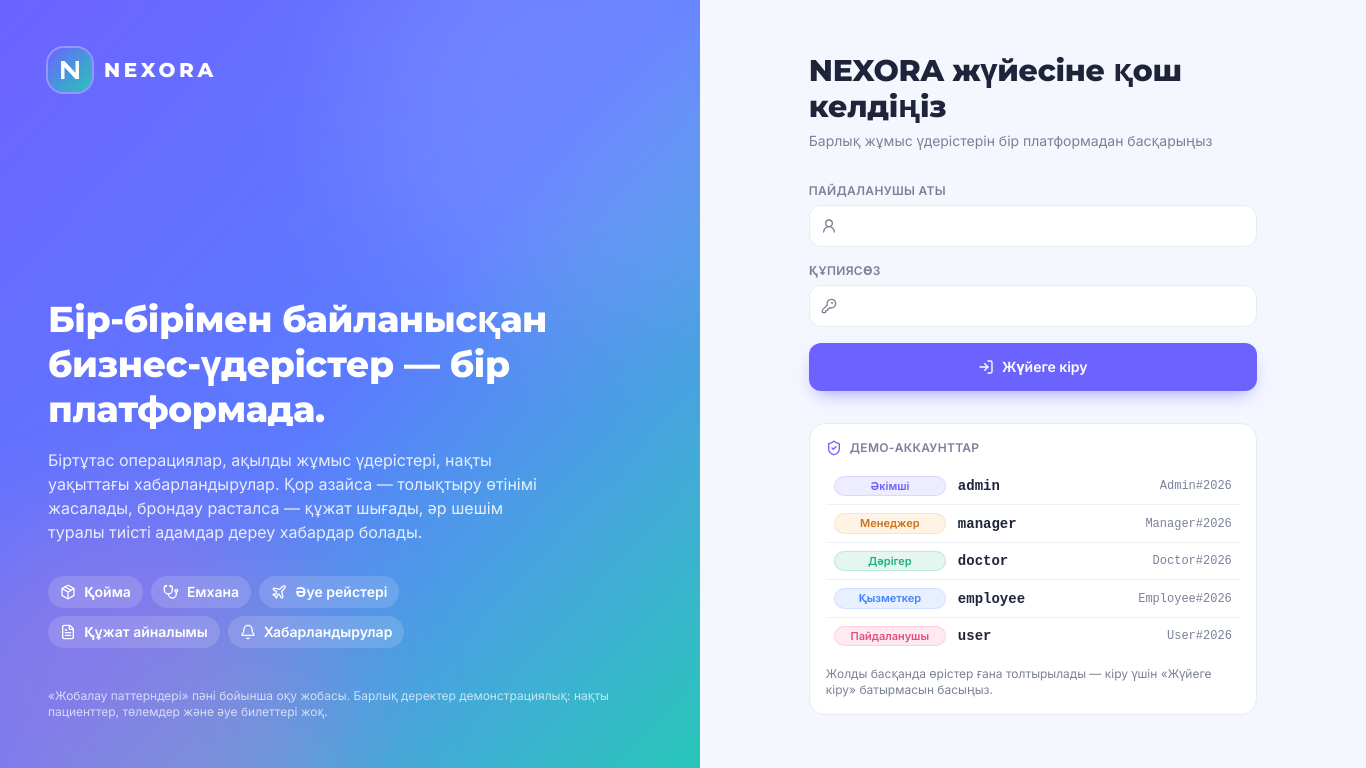
Scenario: LoginPage (қазақша) › shows the Kazakh server message for wrong credentials
Type "manager" into the field labelled "Пайдаланушы аты" at {"x": 1033, "y": 226}, box x1=809 y1=205 x2=1257 y2=247
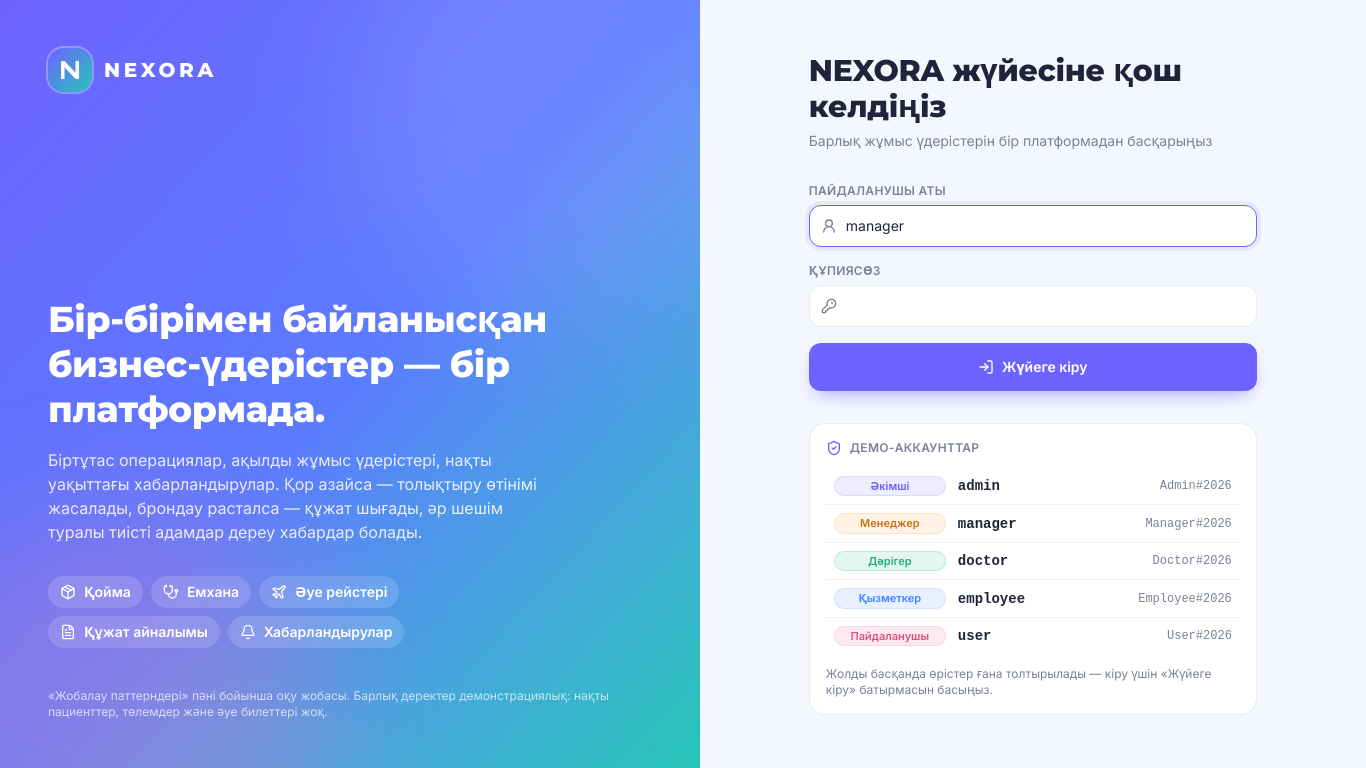
Type "wrong" into the password field labelled "Құпиясөз" at {"x": 1033, "y": 306}, box x1=809 y1=285 x2=1257 y2=327
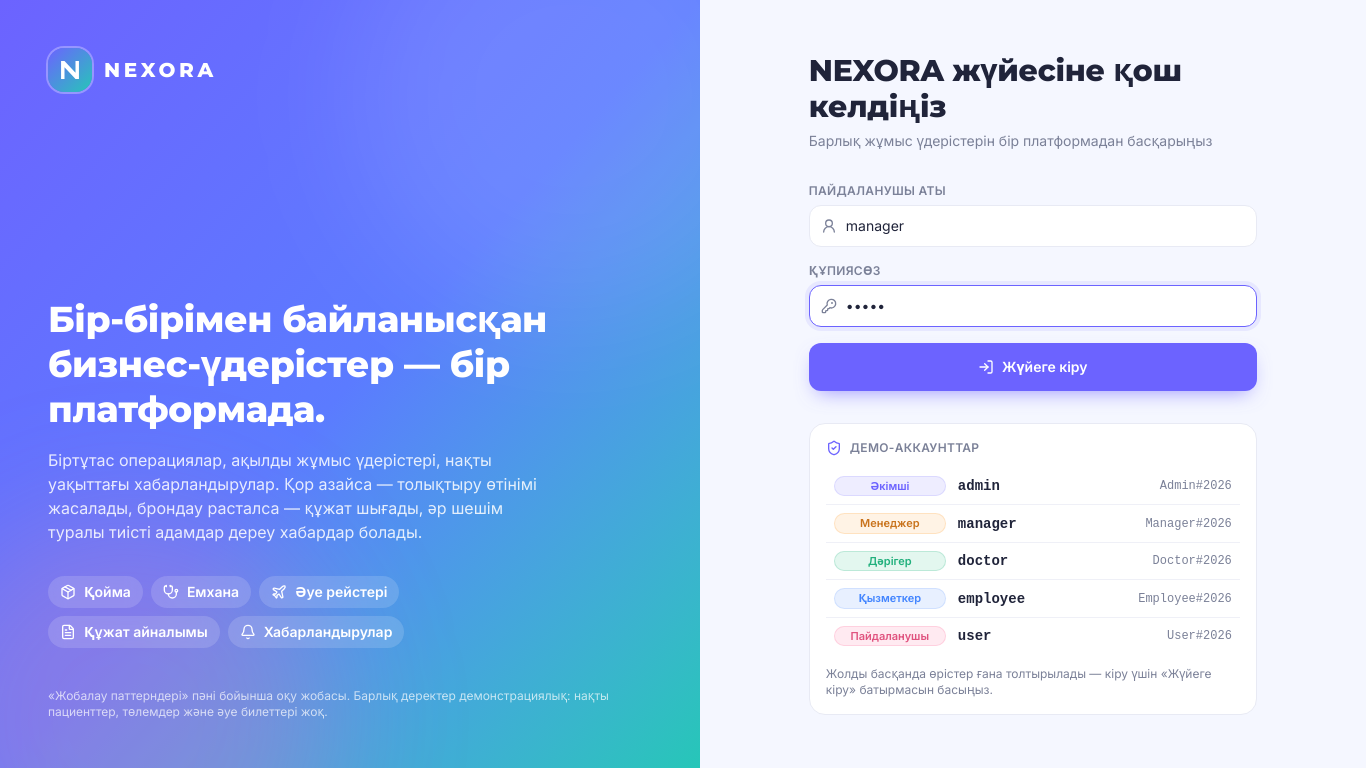
Click the button "Жүйеге кіру" at {"x": 1033, "y": 367}, box x1=809 y1=343 x2=1257 y2=391
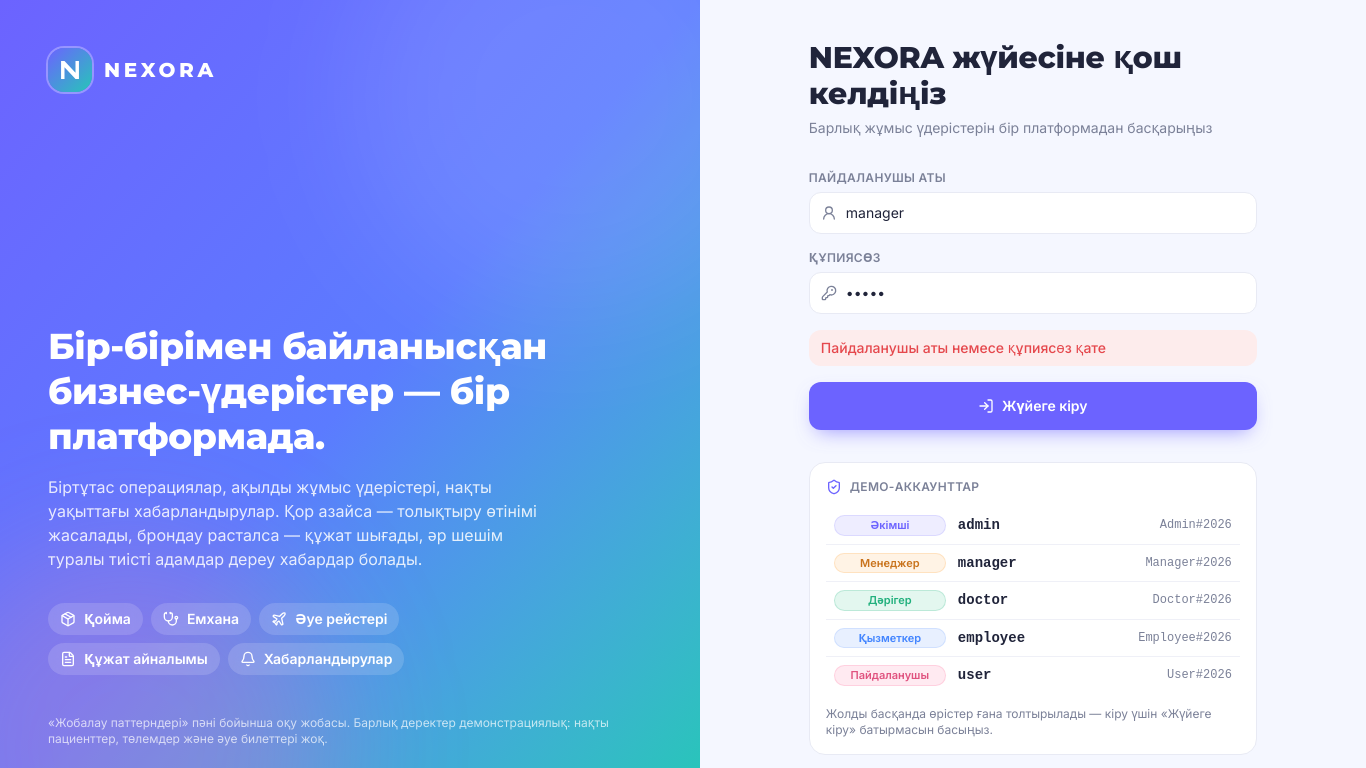
Check: the message reads "Пайдаланушы аты немесе құпиясөз қате", box x1=821 y1=339 x2=1106 y2=356
